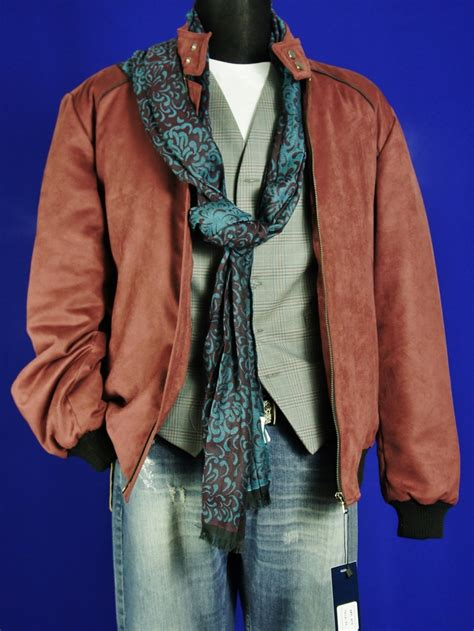gamuza: (10, 33, 460, 502)
